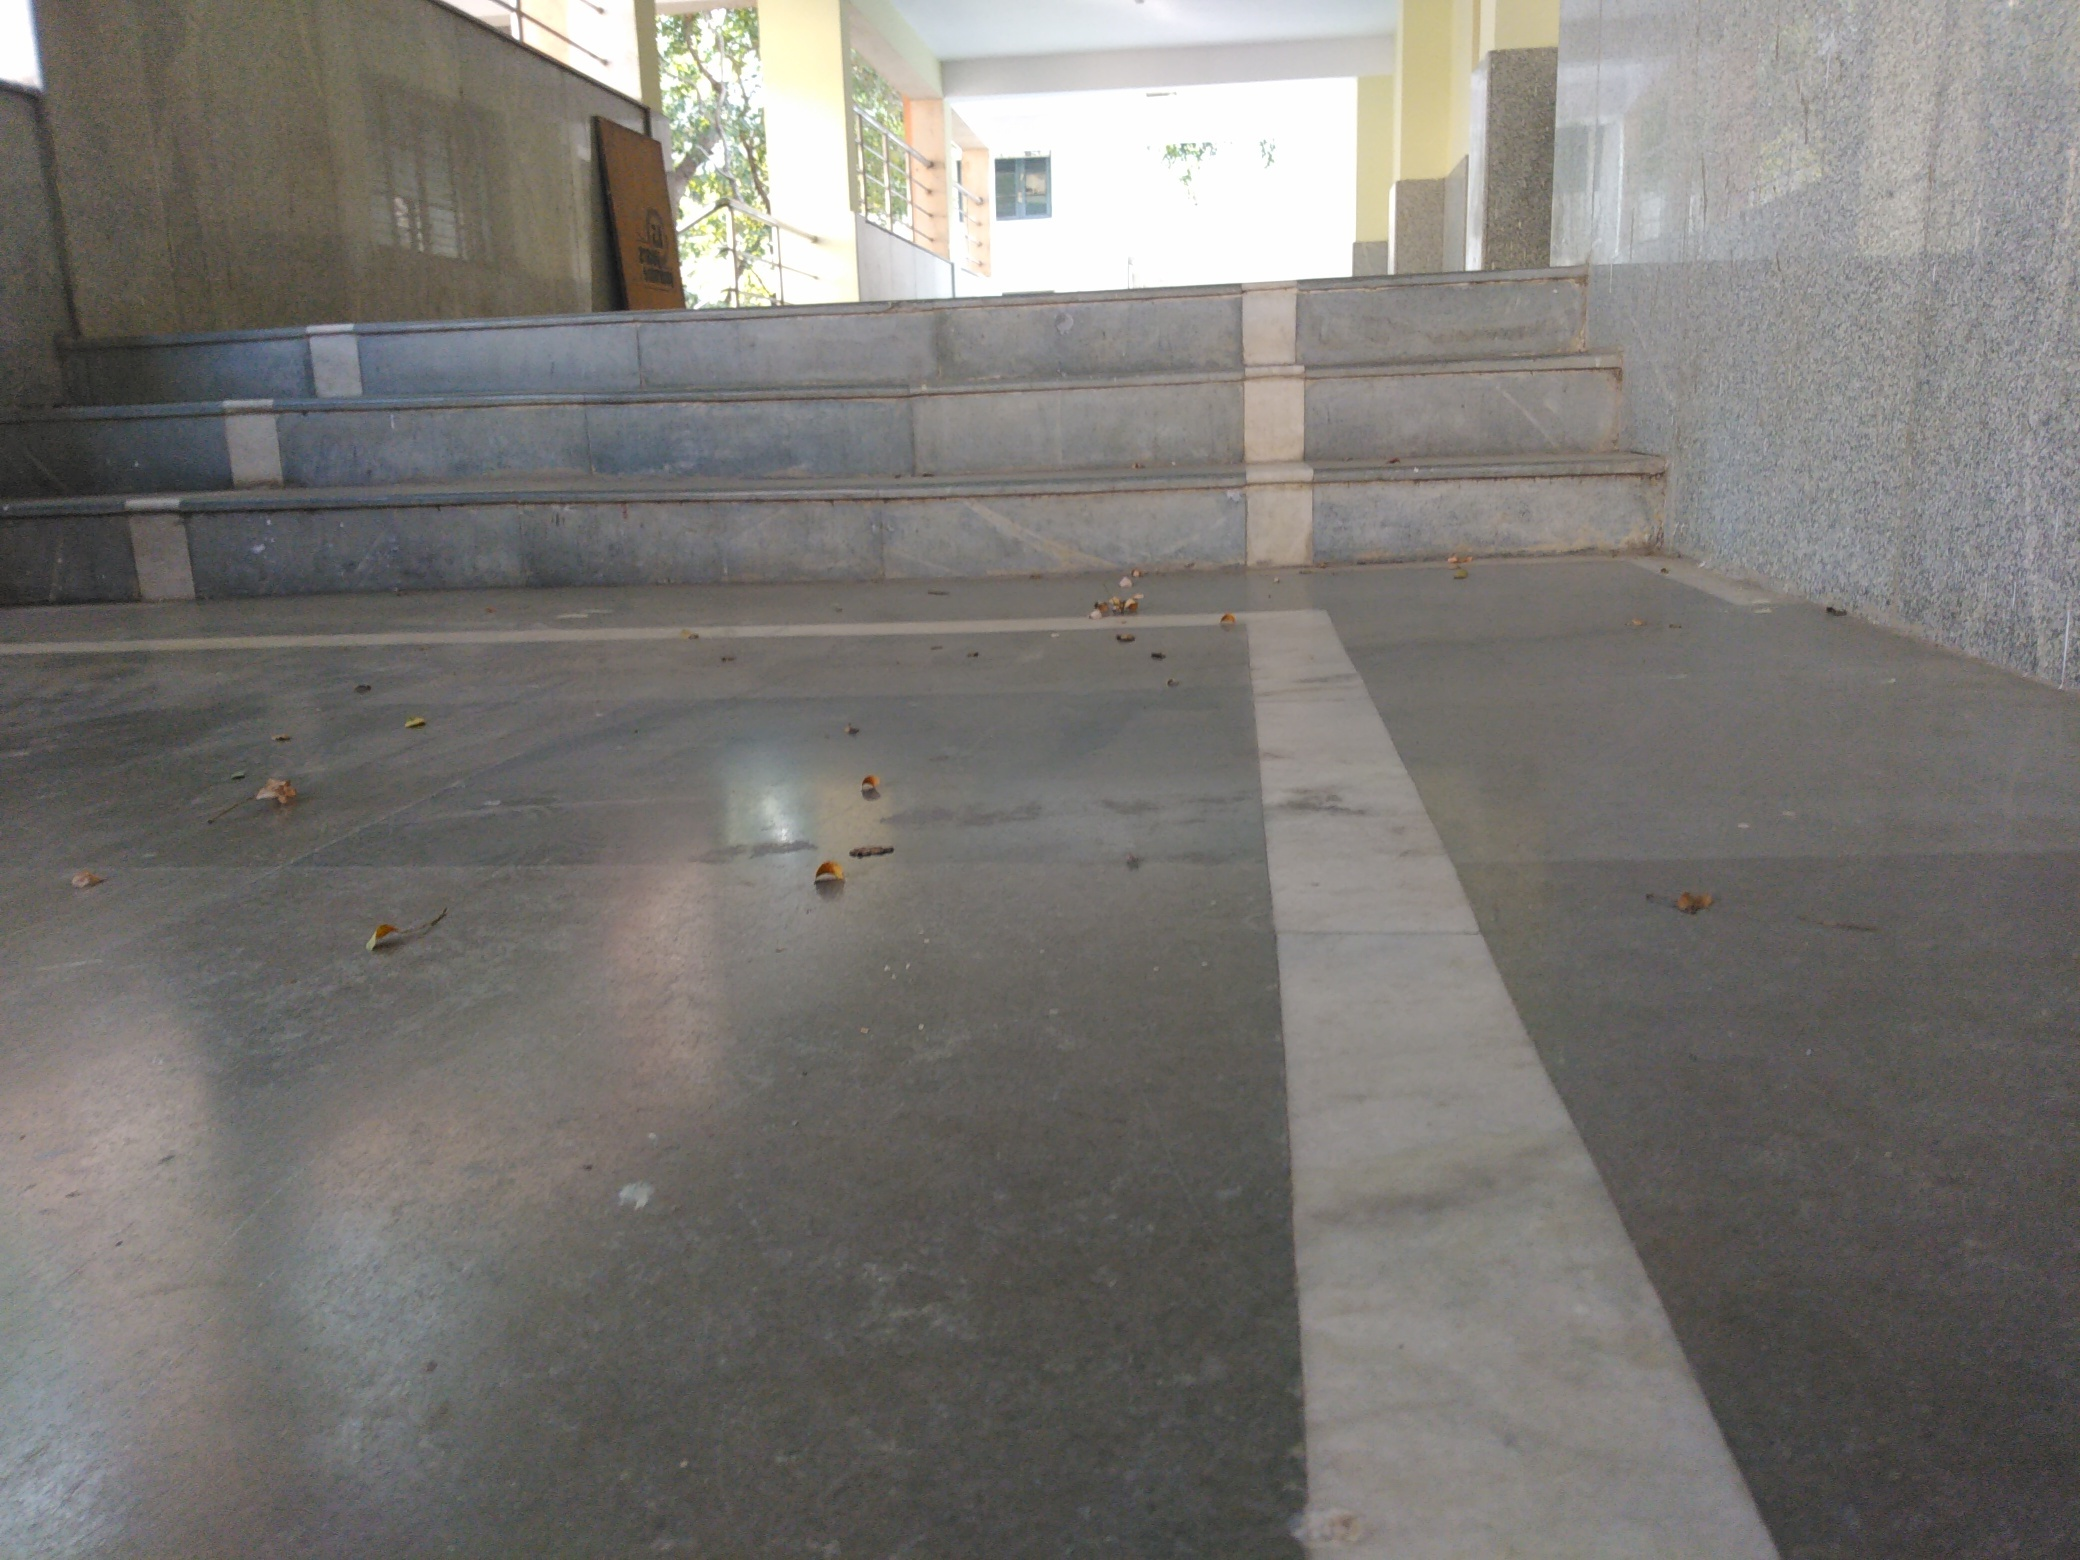stairs_up: (10, 254, 1656, 628)
